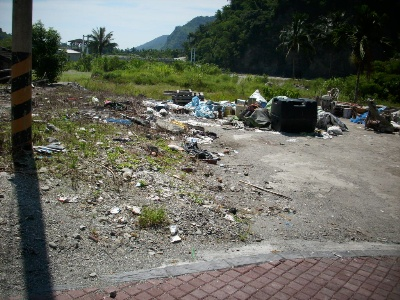bucket: (270, 96, 317, 134)
